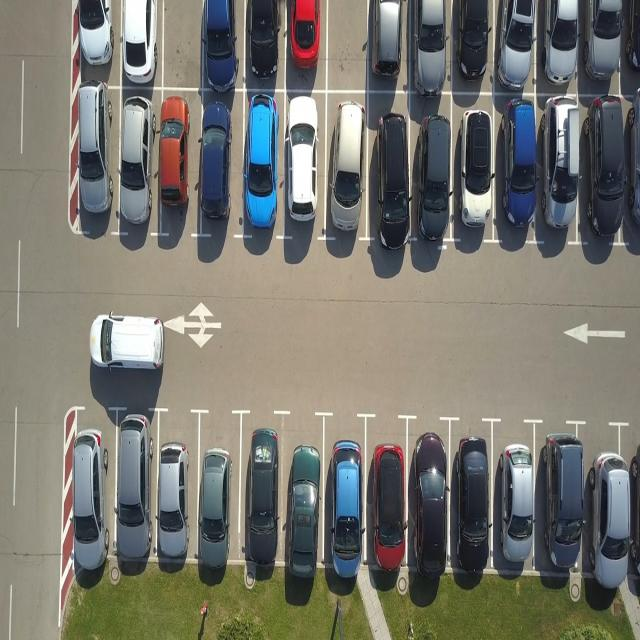space-empty: (324, 0, 372, 89), (162, 0, 208, 87)
space-occupied: (584, 422, 640, 606), (533, 423, 587, 590), (64, 406, 115, 579), (239, 408, 289, 573), (194, 86, 245, 245), (192, 409, 242, 571), (64, 84, 118, 232), (111, 408, 159, 573), (321, 89, 371, 247), (323, 413, 370, 579), (489, 418, 537, 580), (362, 412, 408, 580), (280, 412, 327, 576), (154, 409, 201, 571), (240, 88, 288, 245), (407, 415, 452, 582), (368, 92, 416, 245), (577, 104, 628, 246), (279, 91, 326, 245), (157, 86, 204, 240), (451, 417, 496, 577), (535, 101, 584, 243), (493, 94, 541, 237), (117, 86, 161, 237), (410, 95, 453, 244), (455, 105, 499, 246), (576, 0, 624, 93), (406, 2, 453, 95), (537, 2, 584, 95), (491, 0, 539, 91), (71, 0, 121, 85), (452, 0, 498, 90), (243, 0, 290, 88), (199, 0, 246, 88), (119, 0, 165, 88), (282, 0, 327, 89), (363, 0, 408, 89), (623, 102, 640, 242), (621, 0, 640, 93)
